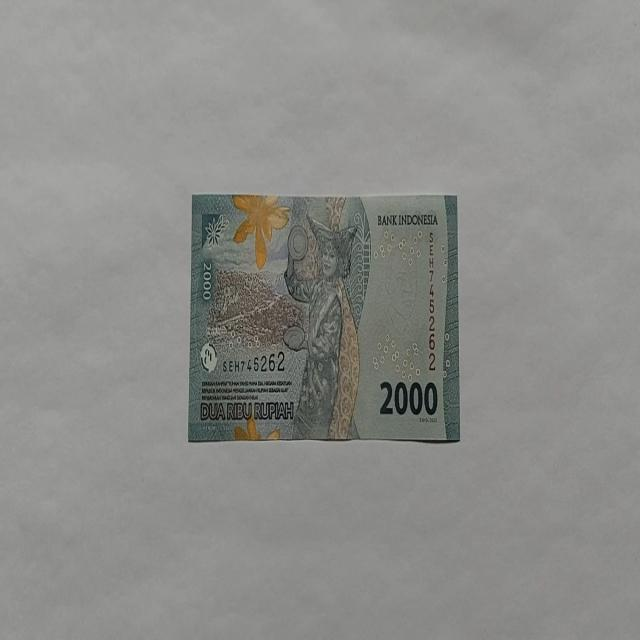dua ribu rupiah: (187, 191, 460, 444), (282, 212, 361, 440), (231, 192, 291, 270)
